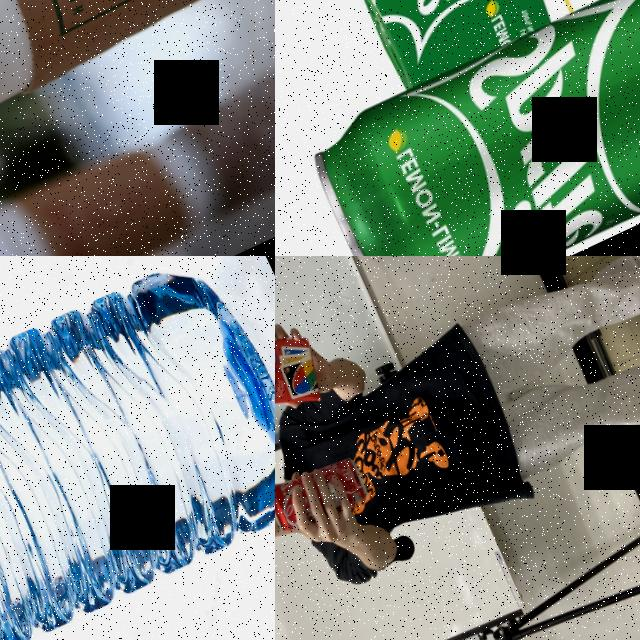bottle: (0, 256, 275, 640)
can: (297, 0, 640, 256), (275, 447, 373, 539)
cup: (0, 0, 275, 161)
